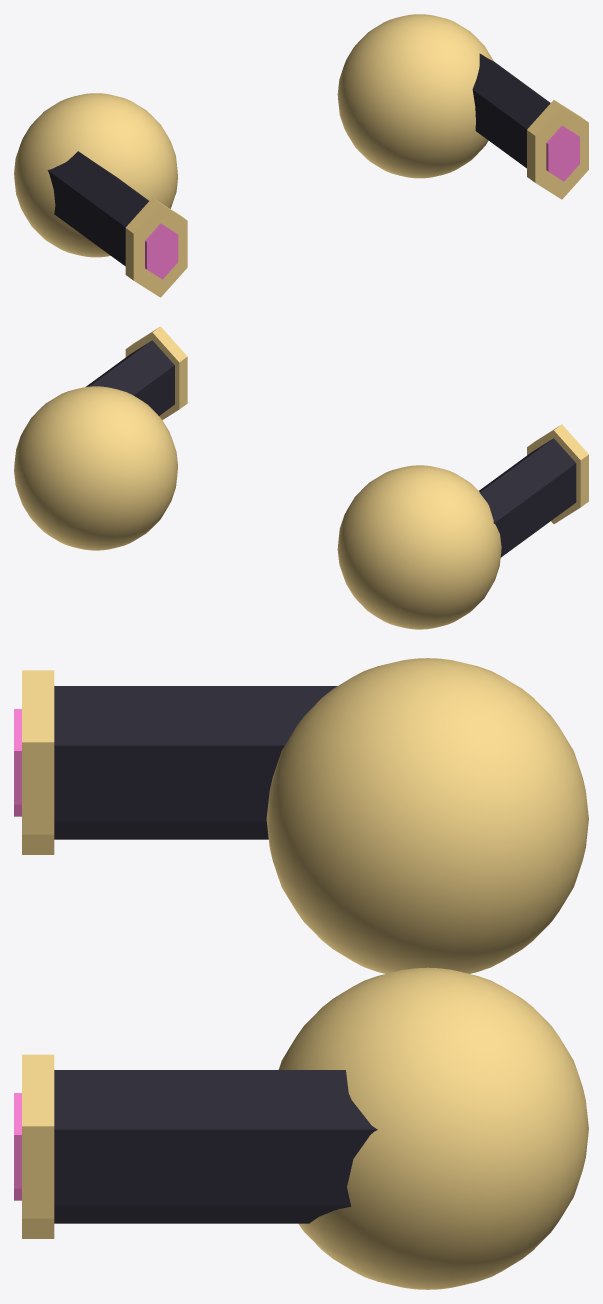
File: SM_Keeper_Wepwawet_Shoulders.fbx
3 renders of one model, top to bottom at view 1: azimuth 30°, elevation 25°; view 2: azimuth 150°, elevation 25°; view 3: azimuth 270°, elevation 25°, orthographic. The views are drawn at different scales.
Visible parts, largest first — view 1: SM_Keeper_Wepwawet_Shoulders; view 2: SM_Keeper_Wepwawet_Shoulders; view 3: SM_Keeper_Wepwawet_Shoulders.
Part boxes in pixels (left/top/right/bottom): SM_Keeper_Wepwawet_Shoulders: left=14, top=14, right=588, bottom=297; SM_Keeper_Wepwawet_Shoulders: left=14, top=326, right=588, bottom=629; SM_Keeper_Wepwawet_Shoulders: left=14, top=658, right=588, bottom=1289.
Size of the model in its own units: 6.55 by 2 by 3.57.
